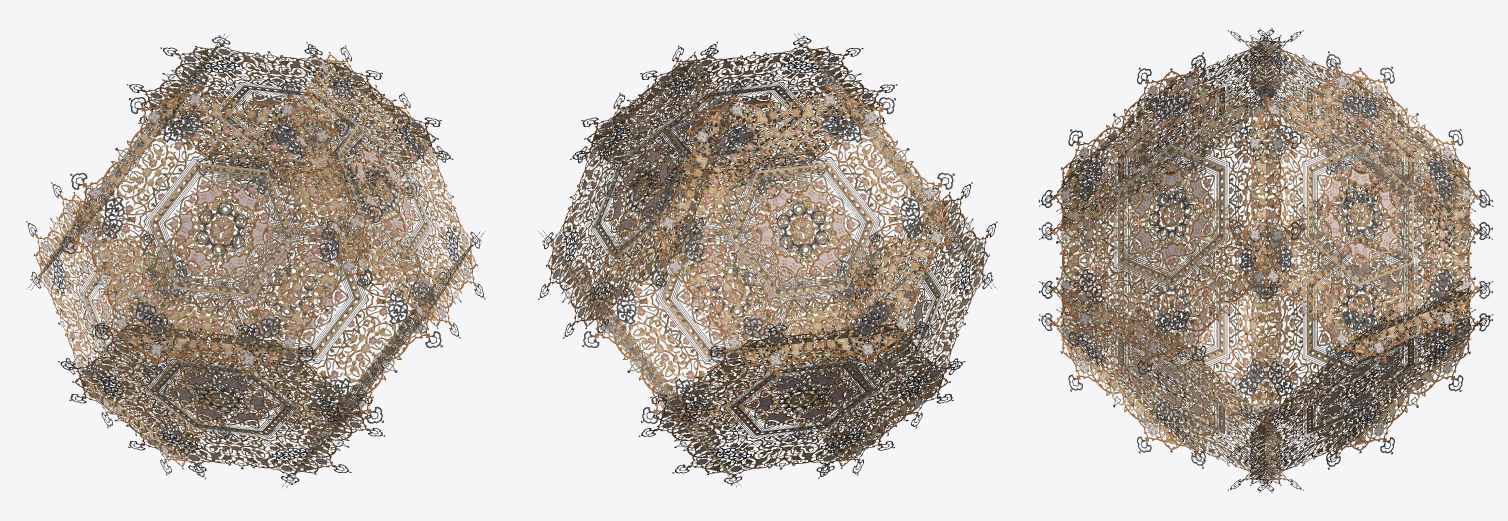
File: CubitruncatedCuboctahedron3.gltf
3 renders of one model, left to right at view 1: azimuth 30°, elevation 25°; view 2: azimuth 150°, elevation 25°; view 3: azimuth 270°, elevation 25°, orthographic.
Visible parts, largest first — view 1: CubitruncatedCuboctahedron; view 2: CubitruncatedCuboctahedron; view 3: CubitruncatedCuboctahedron.
Boxes of the visible parts, left/top/right/bottom form: CubitruncatedCuboctahedron: left=26, top=34, right=485, bottom=487; CubitruncatedCuboctahedron: left=538, top=33, right=997, bottom=486; CubitruncatedCuboctahedron: left=1038, top=28, right=1493, bottom=492.
Bounding box in the file's own units: 2.41 × 2.41 × 2.41.
Materials: 1 (1 with a texture image).
